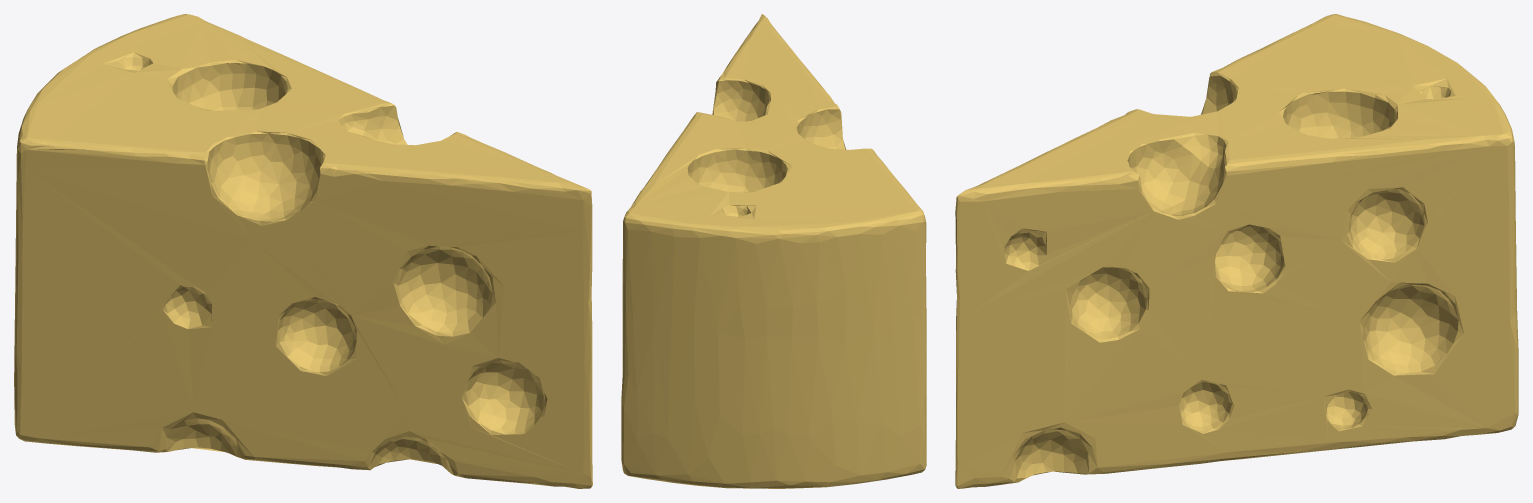
Rendered from cheese.fbx.
The picture shows the model from 3 angles, left to right: view 1: azimuth 30°, elevation 25°; view 2: azimuth 150°, elevation 25°; view 3: azimuth 270°, elevation 25°; orthographic projection. The views are drawn at different scales.
Visible parts, largest first — view 1: cheese; view 2: cheese; view 3: cheese.
Boxes of the visible parts, <box> form: cheese: <box>14,14,592,488</box>; cheese: <box>621,14,926,488</box>; cheese: <box>955,14,1518,488</box>.
Size of the model in its own units: 36.89 by 27.87 by 47.69.
